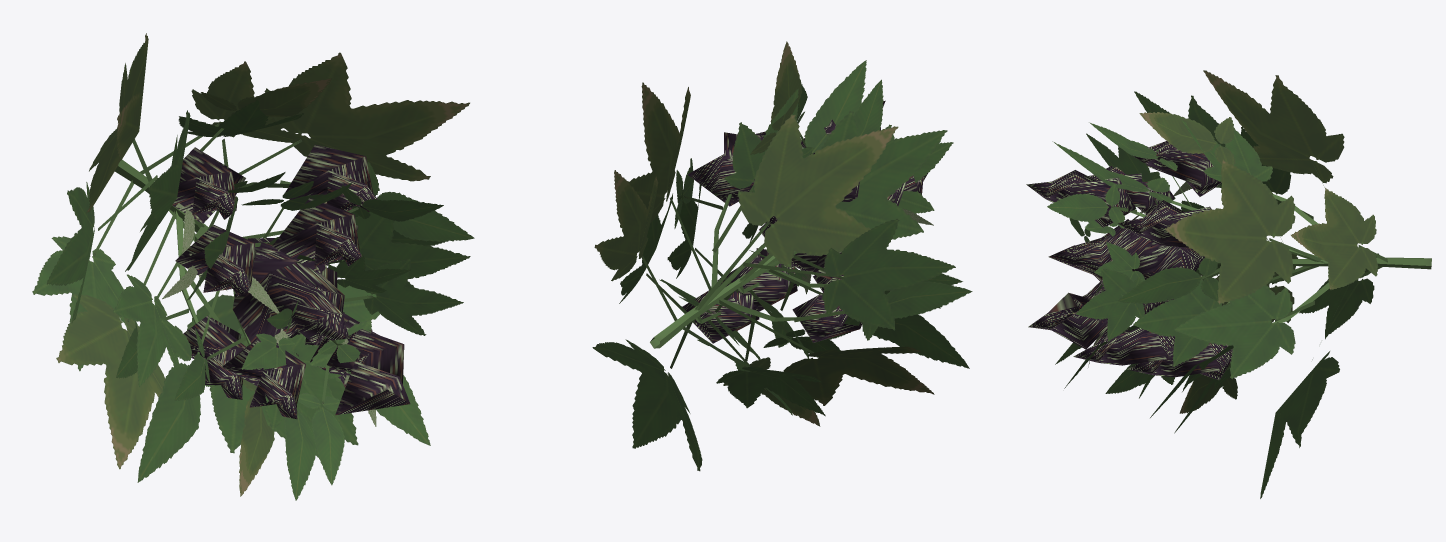
The model's file is p_dark_afghan_ripe_c0_cards.obj.
The picture shows the model from 3 angles, left to right: view 1: azimuth 30°, elevation 25°; view 2: azimuth 150°, elevation 25°; view 3: azimuth 270°, elevation 25°; orthographic projection. The views are drawn at different scales.
Size of the model in its own units: 1.23 by 1.39 by 1.16.
1 material, 1 textured.
